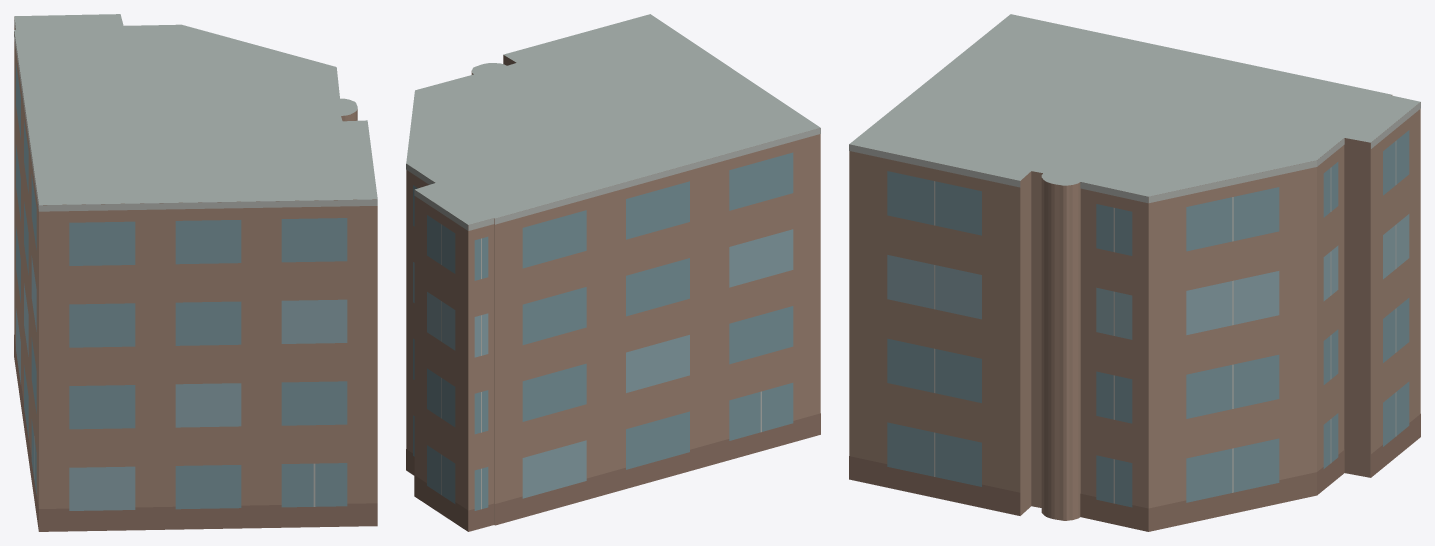
The model's file is survey-upis-32654349.glb.
3 views of the same model, side by side, from view 1: azimuth 30°, elevation 25°; view 2: azimuth 150°, elevation 25°; view 3: azimuth 270°, elevation 25° (orthographic). The views are drawn at different scales.
Parts seen in each view (by area): view 1: survey-upis-32654349.tmp; view 2: survey-upis-32654349.tmp; view 3: survey-upis-32654349.tmp.
Part boxes in pixels (x1=…): survey-upis-32654349.tmp: x1=14, y1=14, x2=377, y2=531; survey-upis-32654349.tmp: x1=406, y1=14, x2=820, y2=531; survey-upis-32654349.tmp: x1=849, y1=14, x2=1420, y2=531.
Size of the model in its own units: 14.39 by 12.3 by 19.02.
